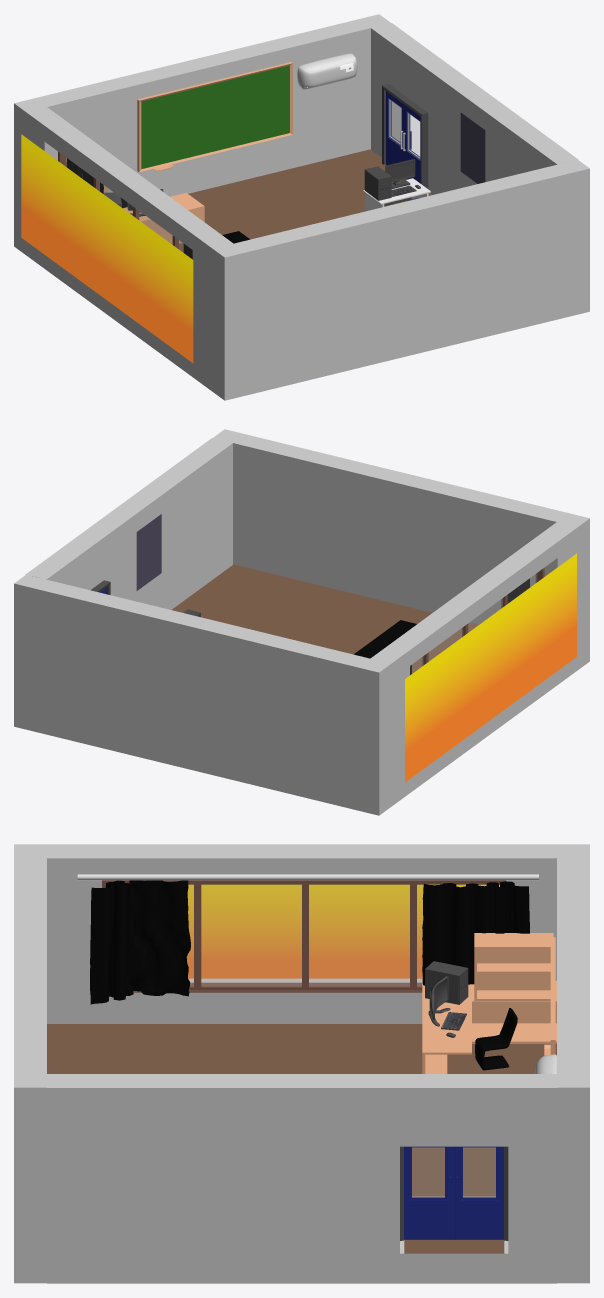
File: Salon de Clases.glb
3 renders of one model, top to bottom at view 1: azimuth 30°, elevation 25°; view 2: azimuth 150°, elevation 25°; view 3: azimuth 270°, elevation 25°, orthographic. The views are drawn at different scales.
Parts seen in each view (by area): view 1: Pared Abajo, Pared Arriba, Paisaje, Pared Derecha Puerta, Pared Izquierda Con Ventana, Pizzara, Suelo, Columna.LD, Columna.RD, Columna LT, Spli, Poster (+7 smaller); view 2: Pared Arriba, Pared Abajo, Paisaje, Pared Derecha Puerta, Pared Izquierda Con Ventana, Suelo, Columna LT, Columna.RT, Columna.LD, Poster, Alfombra; view 3: Pared Derecha Puerta, Pared Izquierda Con Ventana, Suelo, Cortina Abierta, Paisaje, Pared Abajo, Pared Arriba, Columna.RT, Columna.RD, Mesa de Profesor, Gabeta.001, Cube.002 (+6 smaller).
Boxes of the visible parts, left/top/right/bottom form: Pared Abajo: left=234, top=165, right=568, bottom=395; Pared Arriba: left=35, top=19, right=370, bottom=196; Paisaje: left=21, top=134, right=193, bottom=362; Pared Derecha Puerta: left=371, top=23, right=578, bottom=194; Pared Izquierda Con Ventana: left=26, top=107, right=233, bottom=391; Pizzara: left=137, top=62, right=292, bottom=172; Suelo: left=179, top=149, right=431, bottom=252; Columna.LD: left=212, top=243, right=245, bottom=400; Columna.RD: left=557, top=159, right=589, bottom=316; Columna LT: left=14, top=98, right=46, bottom=254; Spli: left=297, top=53, right=357, bottom=89; Poster: left=460, top=112, right=485, bottom=183; Pared Arriba: left=35, top=580, right=369, bottom=810; Pared Abajo: left=233, top=434, right=568, bottom=624; Paisaje: left=405, top=553, right=576, bottom=782; Pared Derecha Puerta: left=25, top=438, right=232, bottom=609; Pared Izquierda Con Ventana: left=370, top=522, right=577, bottom=806; Suelo: left=172, top=564, right=479, bottom=673; Columna LT: left=358, top=658, right=391, bottom=815; Columna.RT: left=14, top=574, right=46, bottom=731; Columna.LD: left=557, top=513, right=589, bottom=669; Poster: left=136, top=514, right=161, bottom=590; Alfombra: left=354, top=620, right=416, bottom=658; Pared Derecha Puerta: left=47, top=1074, right=556, bottom=1283; Pared Izquierda Con Ventana: left=47, top=844, right=556, bottom=1023; Suelo: left=47, top=1024, right=556, bottom=1239; Cortina Abierta: left=77, top=874, right=538, bottom=1004; Paisaje: left=186, top=884, right=499, bottom=978; Pared Abajo: left=14, top=858, right=46, bottom=1073; Pared Arriba: left=557, top=858, right=589, bottom=1073; Columna.RT: left=557, top=1073, right=589, bottom=1283; Columna.RD: left=14, top=1073, right=46, bottom=1283; Mesa de Profesor: left=422, top=981, right=556, bottom=1073; Gabeta.001: left=474, top=933, right=553, bottom=1000; Cube.002: left=404, top=1146, right=453, bottom=1239.
Size of what is drawn, in the model's own units: 10.92 by 3.99 by 10.64.
24 materials, 3 textured.
